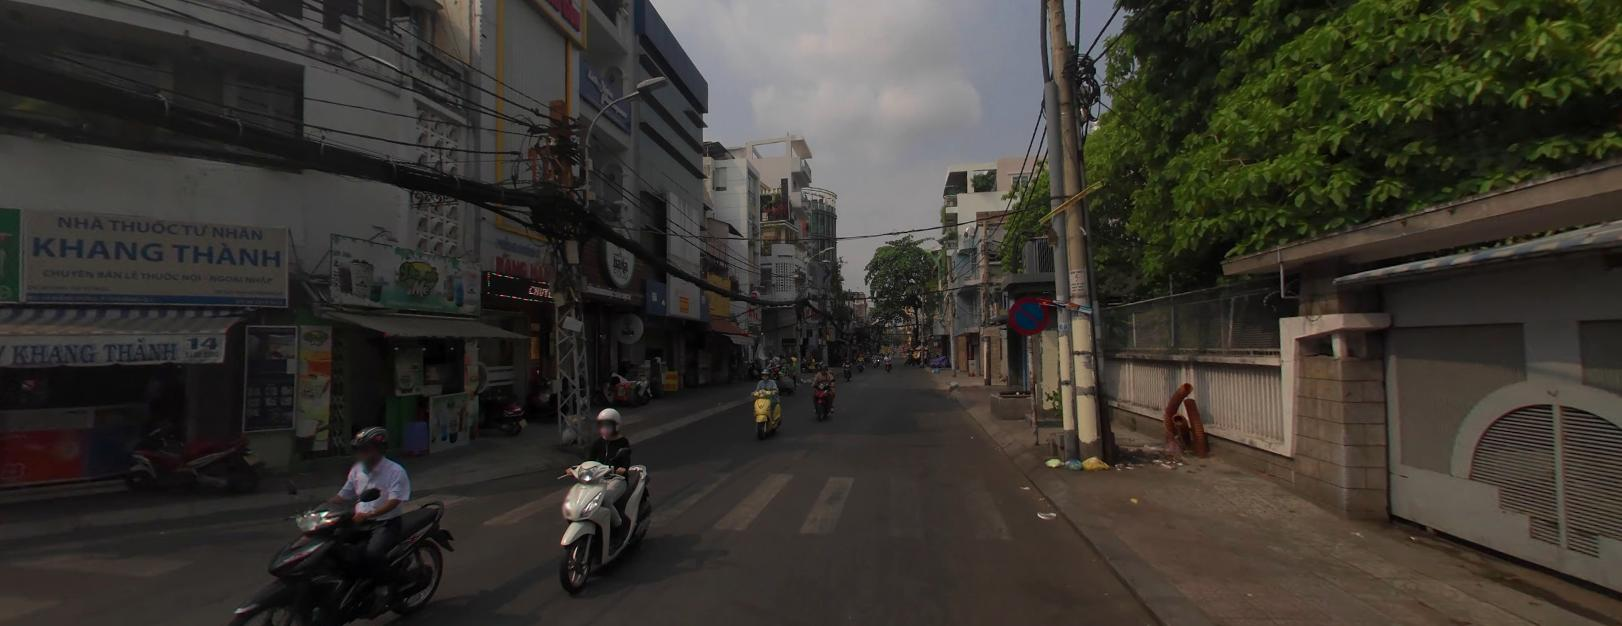Cam dung va do: (1008, 295, 1048, 332)
